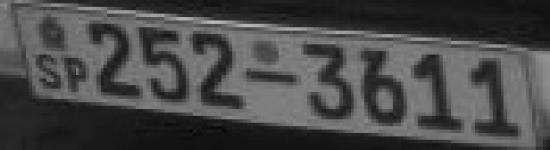-: (248, 68, 300, 86)
1: (469, 52, 525, 138), (412, 51, 465, 135)
2: (191, 31, 244, 112), (89, 21, 138, 98)
3: (300, 41, 356, 120)
5: (141, 25, 189, 105)
6: (360, 47, 406, 125)
P: (70, 58, 90, 92)
S: (34, 52, 64, 91)
